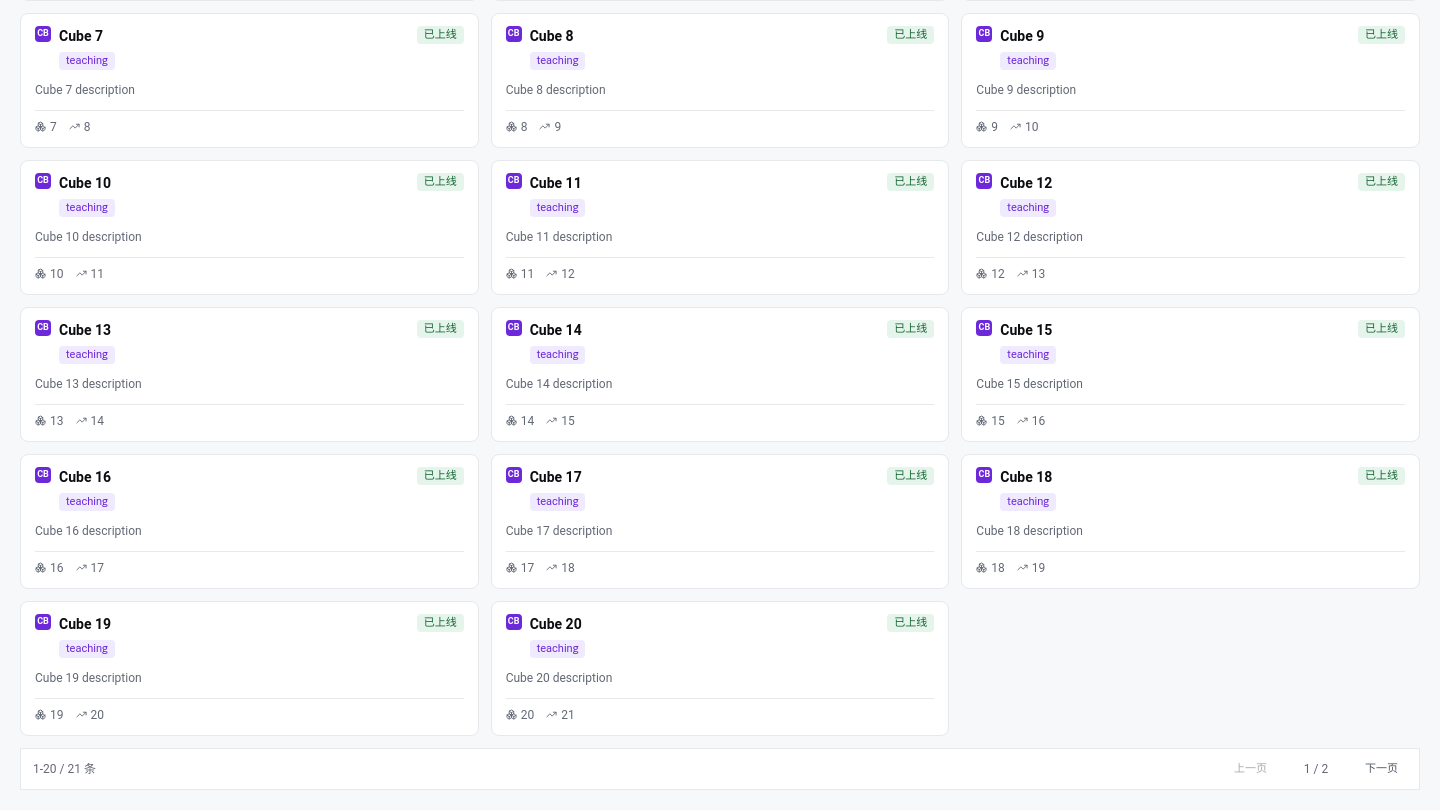
Scenario: Cubes page pagination › 超过 20 个 Cube 时分页展示，并可切到下一页
(page scrolled)
Expected: the text "Cube 21" is not shown
Step 1. Click the button "下一页" → click(1382, 768), box [1356, 756, 1407, 780]
(page scrolled)
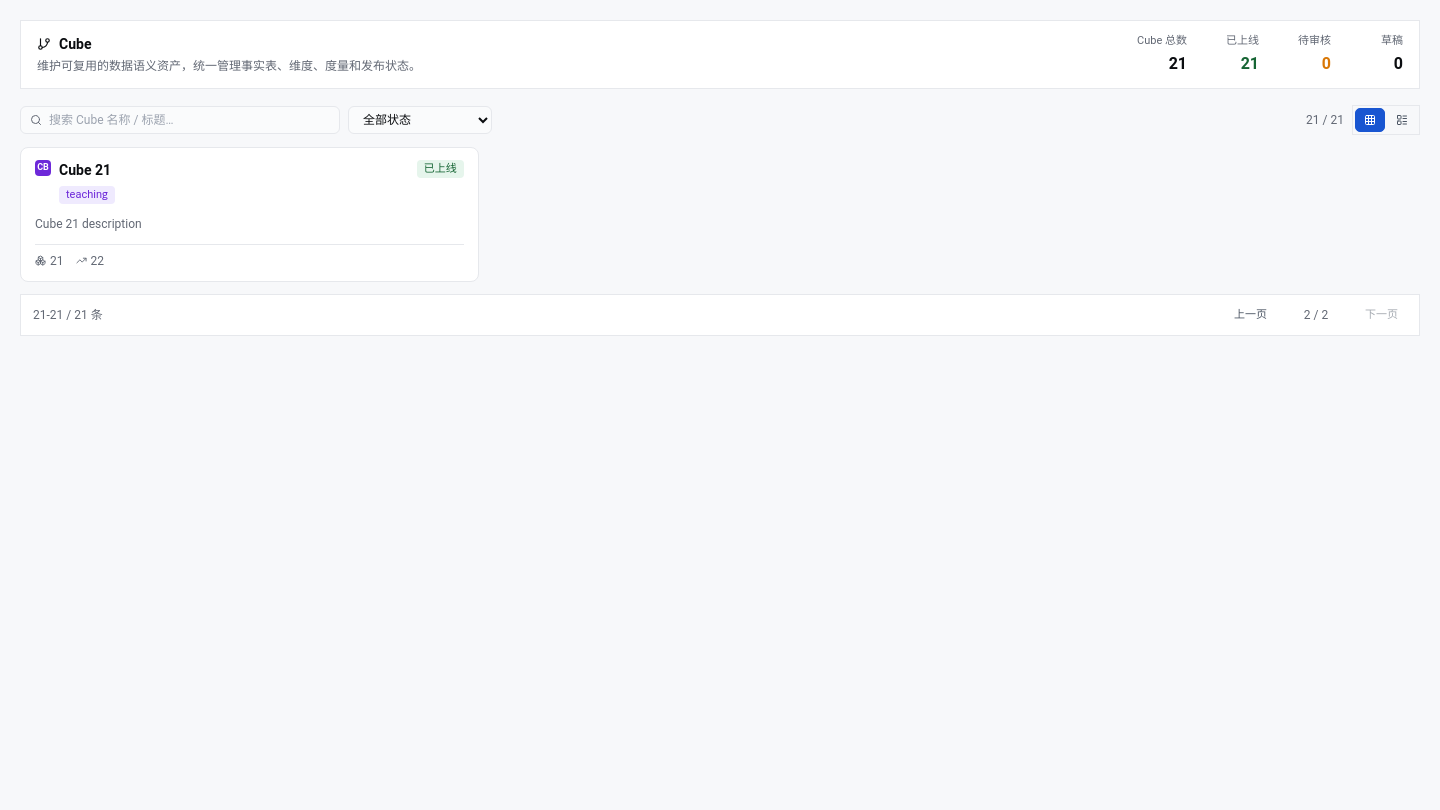
Result: the button "Cube 1" is gone
Result: the text "Cube 21" is shown at [59, 160, 115, 180]
Result: the text "21-21 / 21 条" is shown at [33, 306, 103, 322]
